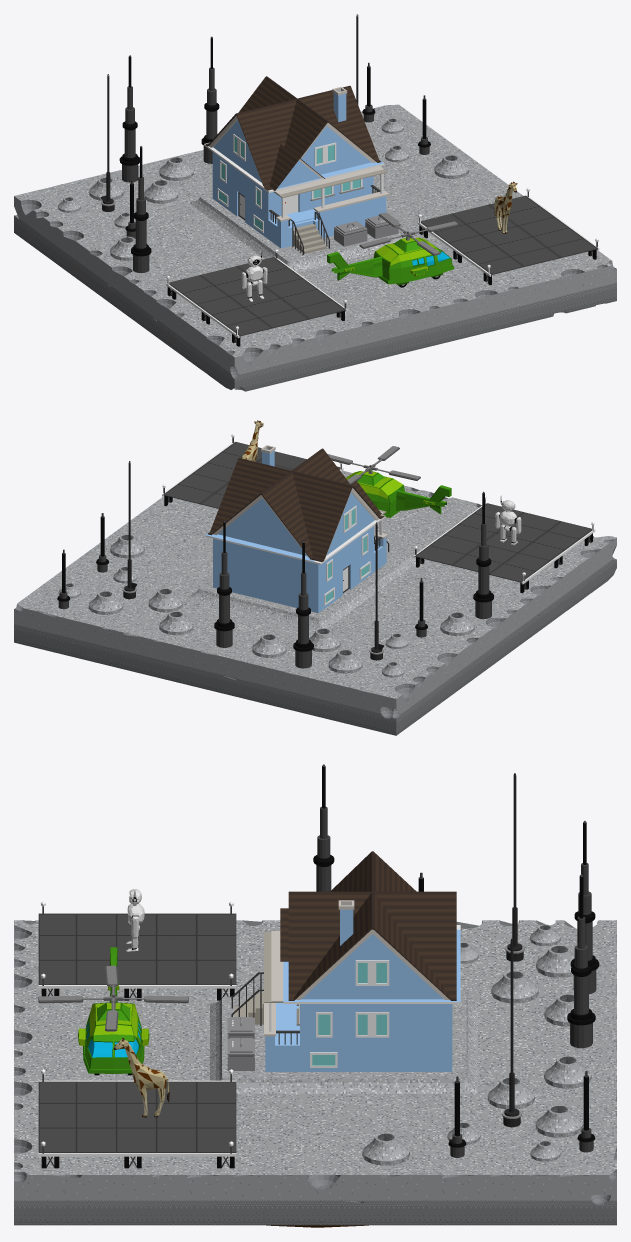
The picture shows the model from 3 angles, top to bottom: view 1: azimuth 30°, elevation 25°; view 2: azimuth 150°, elevation 25°; view 3: azimuth 270°, elevation 25°; orthographic projection. The views are drawn at different scales.
Visible parts, largest first — view 1: Cube.027, Cube.1594, Cube.026, Cube.025, VEHICLES_HELICOPTER, Cube.028, Cylinder.020, Cylinder.021, Cylinder.017, OBJRANDOM_PLATZEEBOT, Cube.029, Cylinder.026 (+6 smaller); view 2: Cube.027, Cube.1594, Cube.025, Cube.028, Cube.026, VEHICLES_HELICOPTER, Cylinder.017, Cylinder.021, Cylinder.020, OBJRANDOM_PLATZEEBOT, Cylinder.028, Cylinder.029 (+8 smaller); view 3: Cube.027, Cube.1594, Cube.026, Cube.025, Cube.028, VEHICLES_HELICOPTER, Cylinder.017, ANIMAL_JIRAFA, Cylinder.020, Cylinder.021, Cylinder.031, Cylinder.033 (+11 smaller).
Part boxes in pixels (x1,y1,x2,y2): Cube.027: [14, 104, 616, 391]; Cube.1594: [204, 76, 389, 254]; Cube.026: [417, 188, 599, 285]; Cube.025: [166, 249, 347, 346]; VEHICLES_HELICOPTER: [327, 212, 458, 287]; Cube.028: [190, 193, 416, 271]; Cylinder.020: [119, 55, 139, 182]; Cylinder.021: [131, 146, 151, 273]; Cylinder.017: [201, 36, 219, 163]; OBJRANDOM_PLATZEEBOT: [241, 251, 267, 301]; Cube.029: [334, 221, 367, 246]; Cylinder.026: [144, 179, 178, 203]; Cube.027: [14, 470, 616, 735]; Cube.1594: [205, 445, 389, 613]; Cube.025: [413, 495, 595, 593]; Cube.028: [188, 548, 415, 629]; Cube.026: [162, 434, 343, 508]; VEHICLES_HELICOPTER: [327, 446, 451, 517]; Cylinder.017: [214, 520, 234, 647]; Cylinder.021: [473, 491, 493, 619]; Cylinder.020: [293, 541, 313, 668]; OBJRANDOM_PLATZEEBOT: [495, 495, 521, 545]; Cylinder.028: [328, 649, 362, 673]; Cylinder.029: [159, 611, 193, 635]; Cube.027: [14, 920, 616, 1225]; Cube.1594: [231, 851, 460, 1071]; Cube.026: [38, 1069, 236, 1168]; Cube.025: [38, 901, 236, 1000]; Cube.028: [210, 996, 477, 1093]; VEHICLES_HELICOPTER: [38, 947, 188, 1075]; Cylinder.017: [567, 874, 595, 1048]; ANIMAL_JIRAFA: [113, 1037, 169, 1117]; Cylinder.020: [570, 820, 599, 994]; Cylinder.021: [313, 764, 334, 891]; Cylinder.031: [535, 1104, 583, 1137]; Cylinder.033: [362, 1132, 409, 1165].
Bounding box in the file's own units: 4000 × 1865 × 4000.
Materials: 41 (4 with a texture image).
